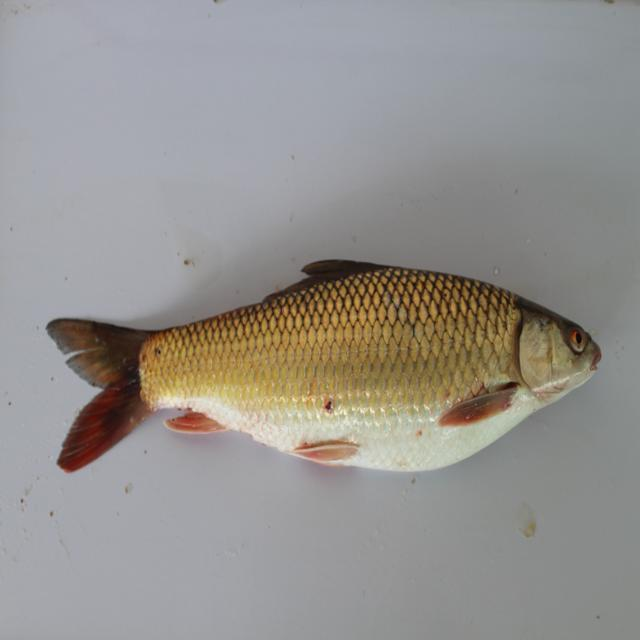Grass Carp: (42, 250, 602, 485)
